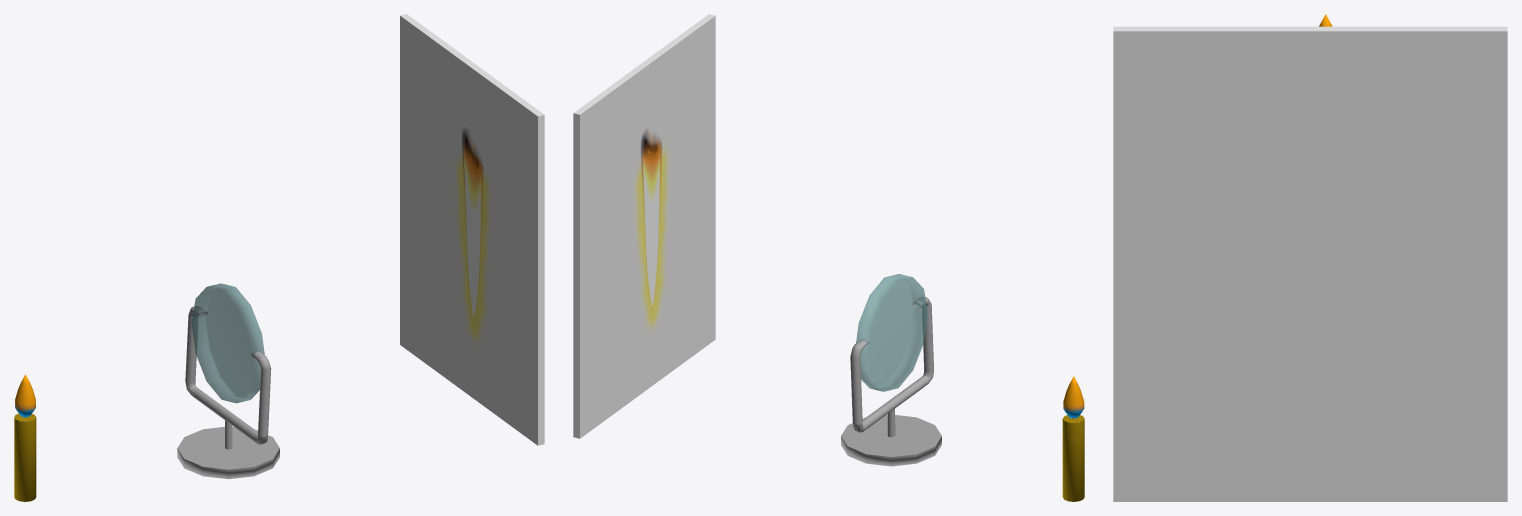
File: fourth.fbx
3 views of the same model, side by side, from view 1: azimuth 30°, elevation 25°; view 2: azimuth 150°, elevation 25°; view 3: azimuth 270°, elevation 25° (orthographic). The views are drawn at different scales.
Visible parts, largest first — view 1: pCube8, pCylinder28, pCylinder30; view 2: pCube8, pCylinder28, pCylinder30; view 3: pCube8.
Part boxes in pixels (<box>): pCube8: <box>400,14,544,445</box>; pCylinder28: <box>177,283,279,479</box>; pCylinder30: <box>14,374,36,501</box>; pCube8: <box>573,14,715,438</box>; pCylinder28: <box>841,274,941,466</box>; pCylinder30: <box>1062,376,1084,501</box>; pCube8: <box>1113,26,1507,501</box>.
Bounding box in the file's own units: 62.41 × 43.19 × 32.77.
4 materials, 2 textured.
